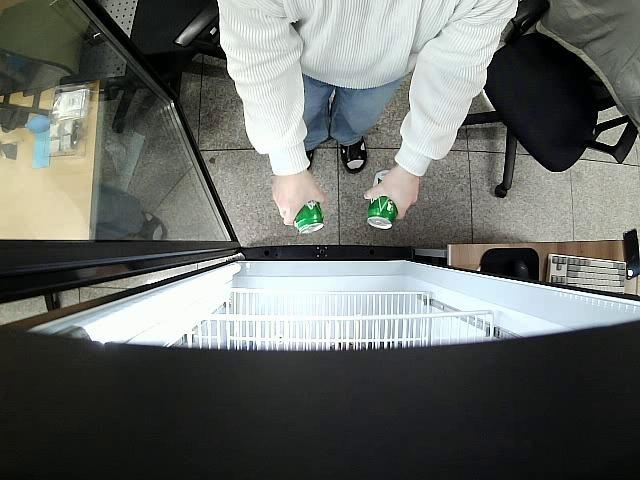12_chilsungCider: (366, 169, 398, 230), (293, 200, 324, 234)
